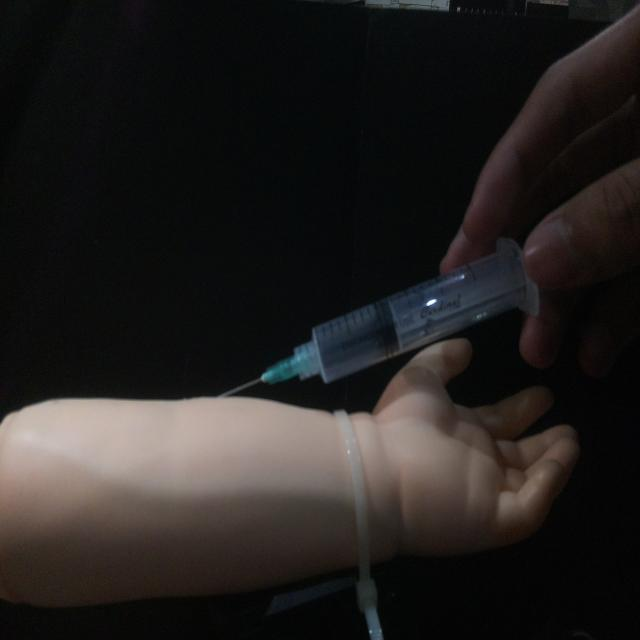19deg: (213, 233, 543, 401)
